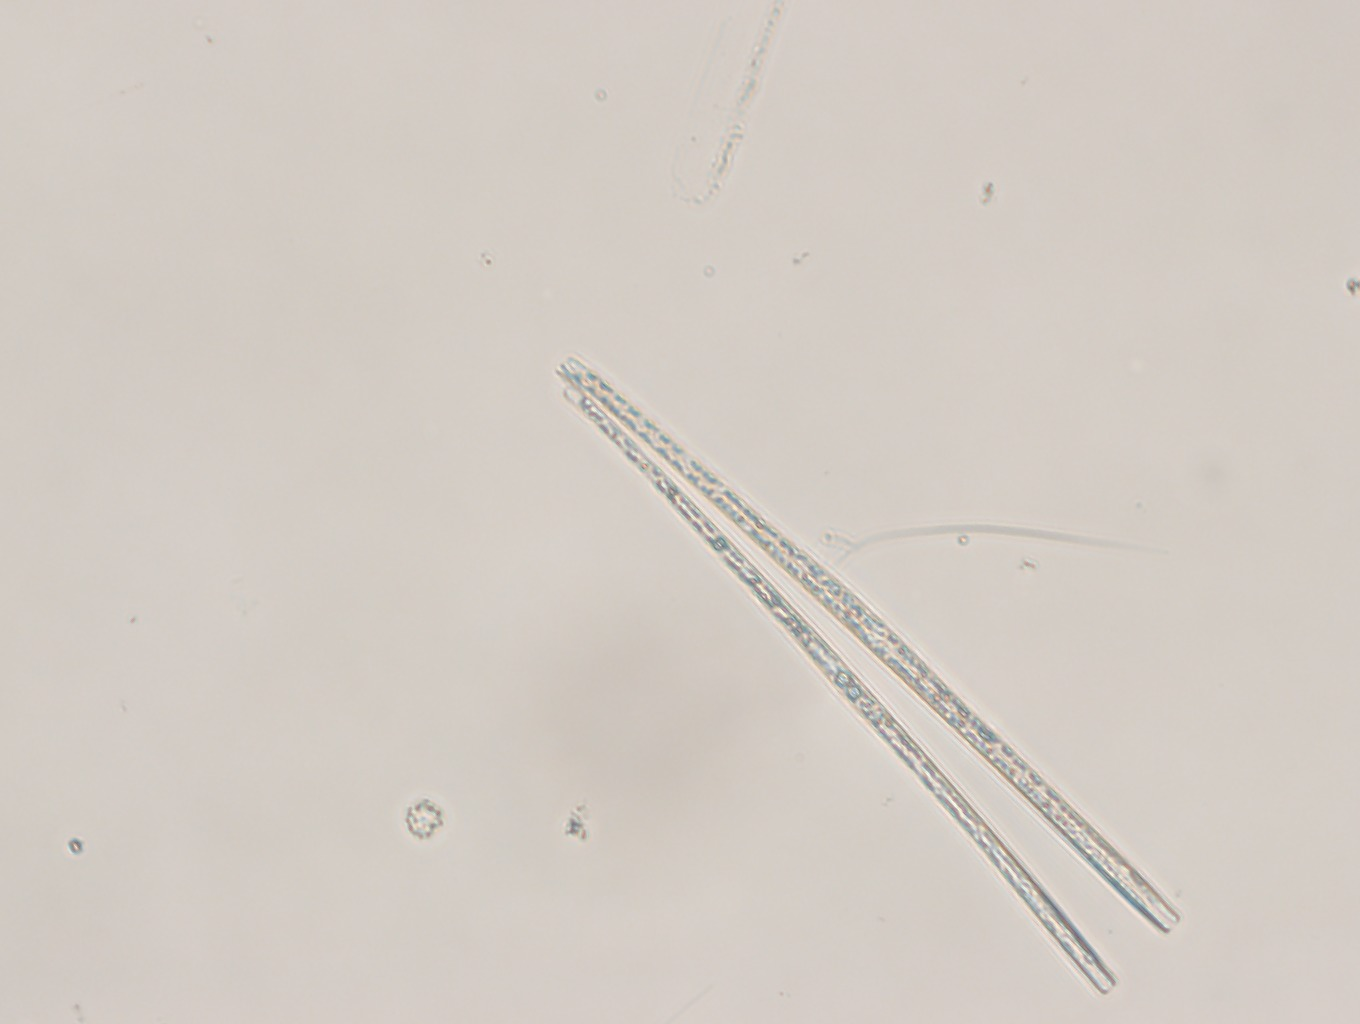thalassionema frauenfeldii: (548, 349, 1187, 997)
